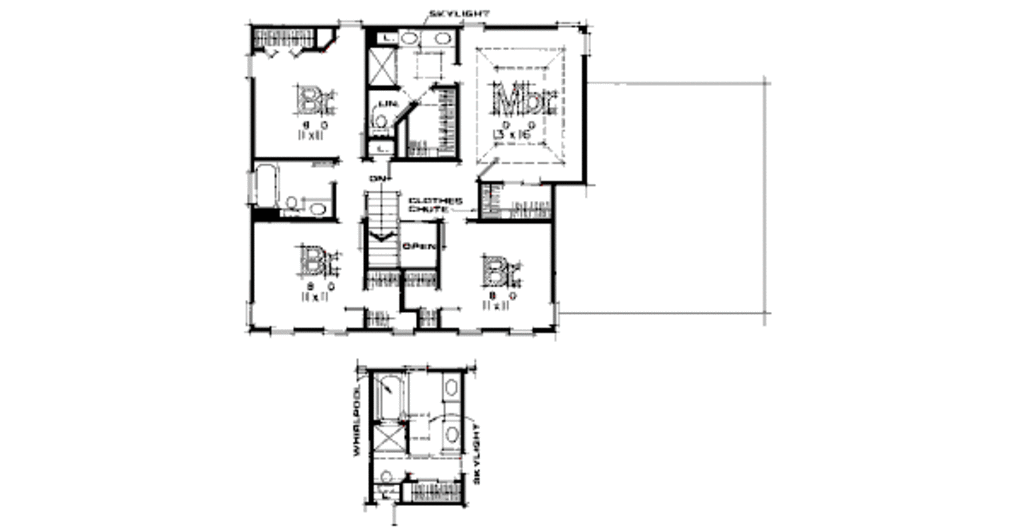large_sink: (362, 109, 393, 142), (273, 191, 303, 224), (371, 471, 402, 495)
small_sink: (439, 371, 470, 458), (393, 28, 459, 53)
stairs: (361, 187, 406, 273)
tub: (367, 368, 413, 420), (248, 158, 282, 211)
